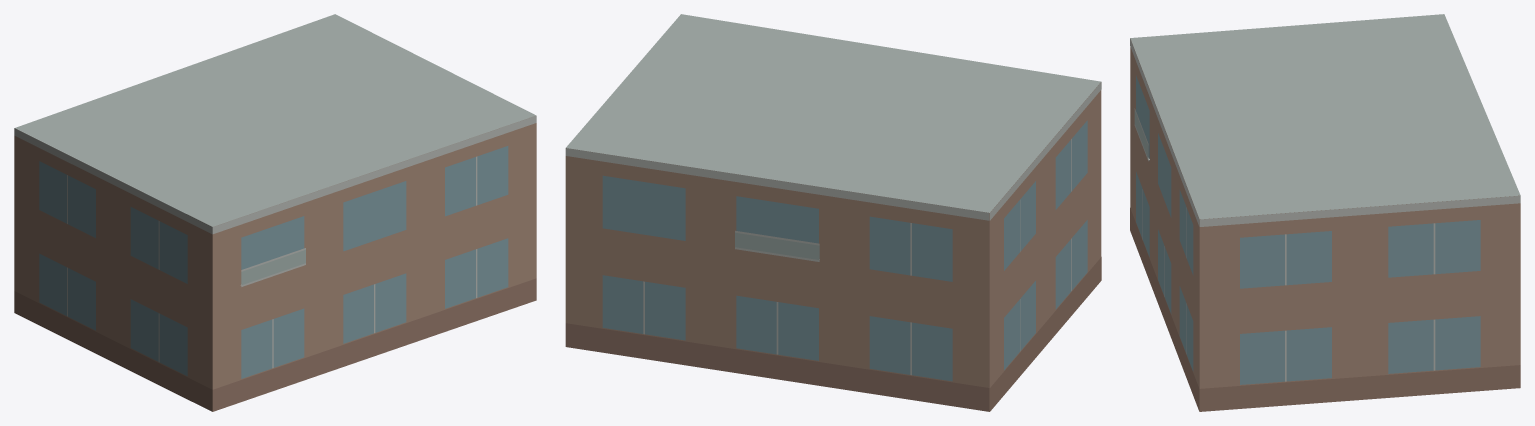
The model's file is survey-upis-32803844.glb.
3 views of the same model, side by side, from view 1: azimuth 30°, elevation 25°; view 2: azimuth 150°, elevation 25°; view 3: azimuth 270°, elevation 25° (orthographic). The views are drawn at different scales.
Parts seen in each view (by area): view 1: survey-upis-32803844.tmp; view 2: survey-upis-32803844.tmp; view 3: survey-upis-32803844.tmp.
Boxes of the visible parts, left/top/right/bottom form: survey-upis-32803844.tmp: left=14, top=14, right=536, bottom=411; survey-upis-32803844.tmp: left=565, top=14, right=1101, bottom=411; survey-upis-32803844.tmp: left=1130, top=14, right=1520, bottom=411.
Size of the model in its own units: 13.98 by 6.1 by 11.23.
